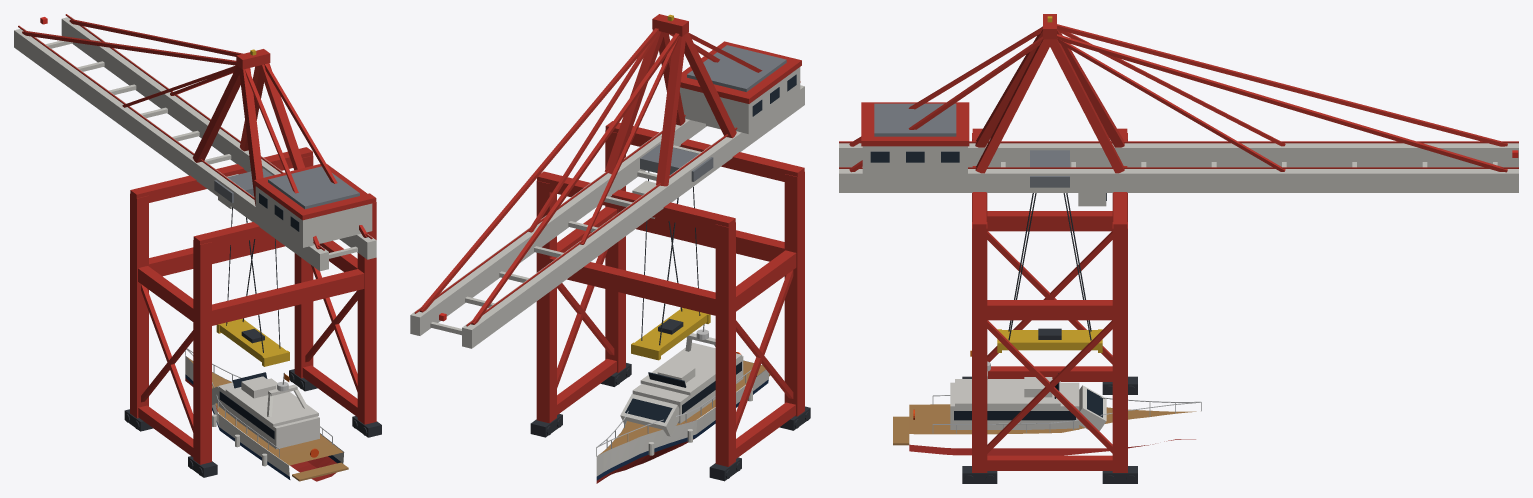
The model's file is docks.glb.
The picture shows the model from 3 angles, left to right: view 1: azimuth 30°, elevation 25°; view 2: azimuth 150°, elevation 25°; view 3: azimuth 270°, elevation 25°; orthographic projection. The views are drawn at different scales.
Parts seen in each view (by area): view 1: crane, yacht; view 2: crane, yacht; view 3: crane, yacht.
Part boxes in pixels (x1,y1,x2,y2): crane: [14, 14, 381, 477]; yacht: [185, 348, 348, 481]; crane: [410, 14, 810, 481]; yacht: [596, 324, 770, 483]; crane: [839, 14, 1518, 483]; yacht: [893, 350, 1201, 455].
Bounding box in the file's own units: 19.7 × 40.6 × 58.
